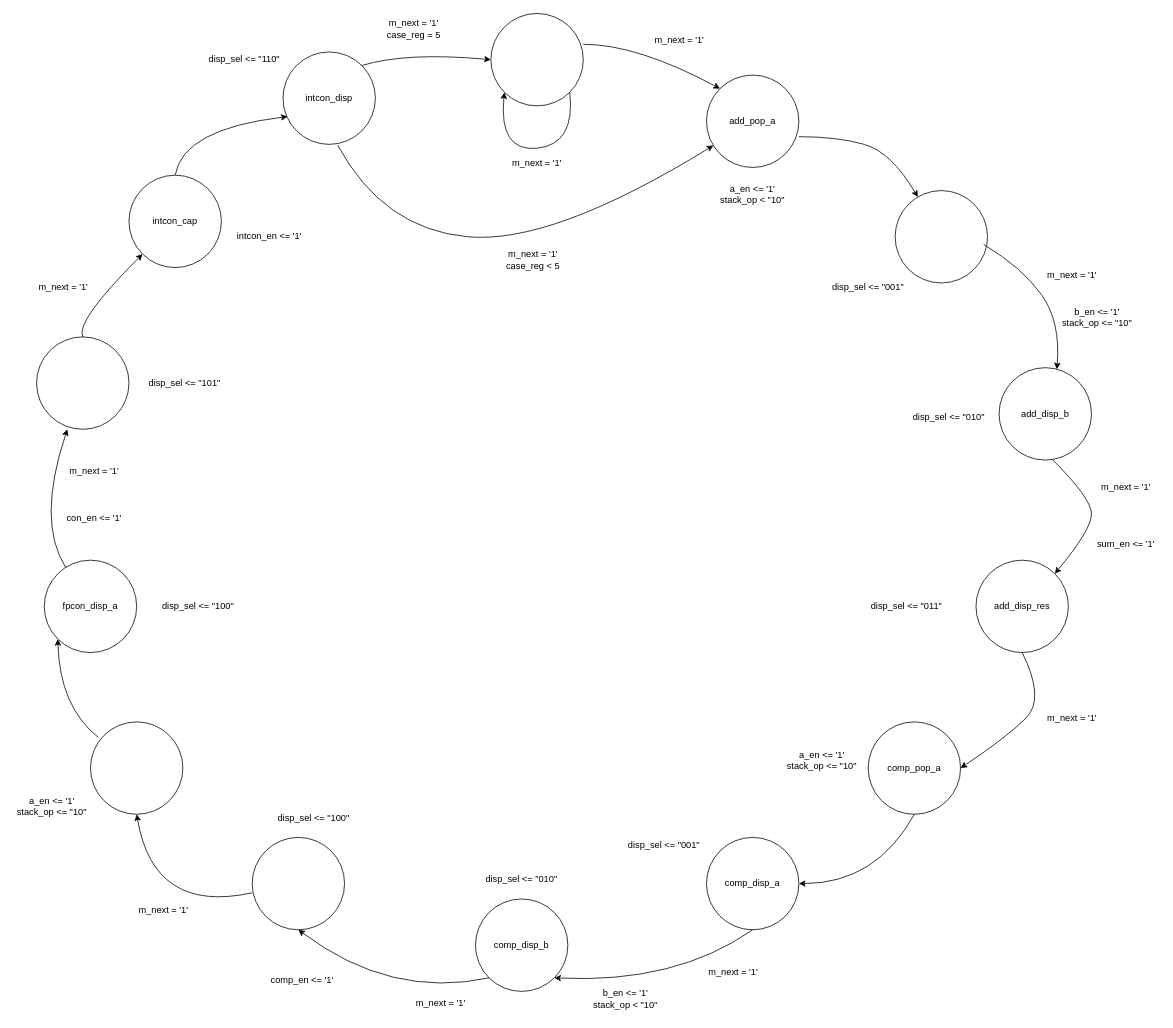
Image size: 1173x1028. Some labels were removed from this diagram. The shapes that lost their labels are listed below. From the top down, each one's box as (x1, y1, x2, y2) in pixels, then its label:
(490, 13, 583, 106): load_stack
(894, 190, 988, 283): add_disp_a
(36, 336, 129, 429): fpcon_disp_res
(90, 721, 183, 814): fpcon_pop_a
(251, 837, 345, 930): comp_disp_res
